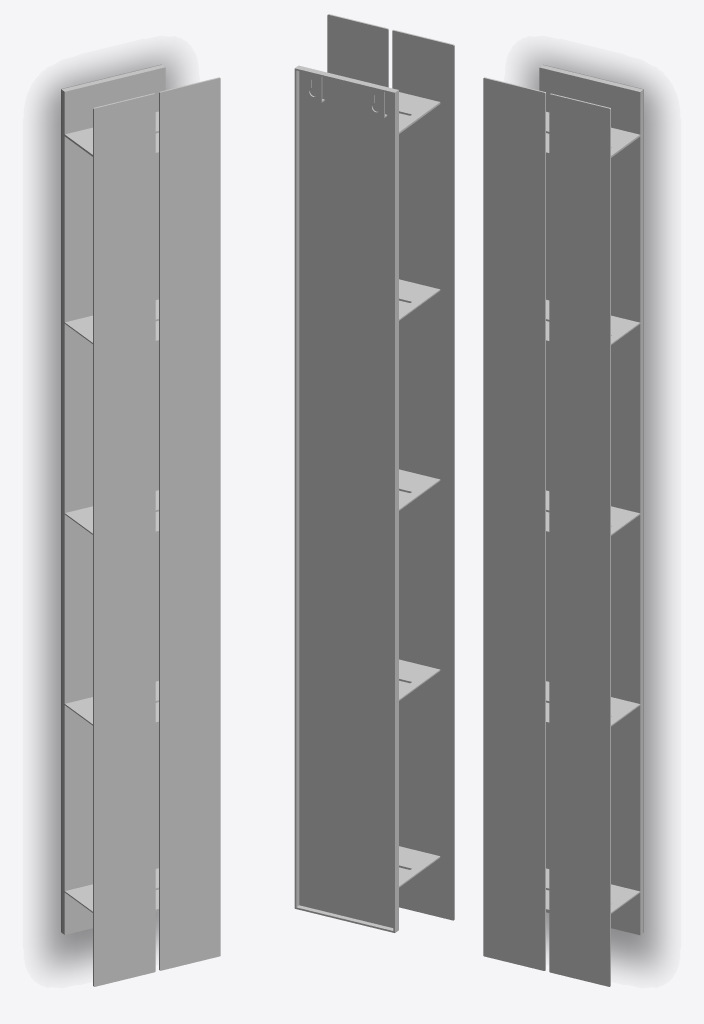
Rendered from skyline-prima.a89890ff95.ar.glb.
3 renders of one model, left to right at view 1: azimuth 30°, elevation 25°; view 2: azimuth 150°, elevation 25°; view 3: azimuth 330°, elevation 25°, orthographic.
Parts seen in each view (by area): view 1: NAUO1, object 2; view 2: NAUO1; view 3: NAUO1, object 2.
Boxes of the visible parts, box(x1,y1,x2,y2) form: NAUO1: box(61, 64, 220, 986); object 2: box(39, 54, 182, 969); NAUO1: box(294, 14, 454, 932); NAUO1: box(483, 64, 643, 986); object 2: box(521, 54, 664, 969).
Bounding box in the file's own units: 0.2312 × 1.08 × 0.096.
2 materials, 1 textured.
